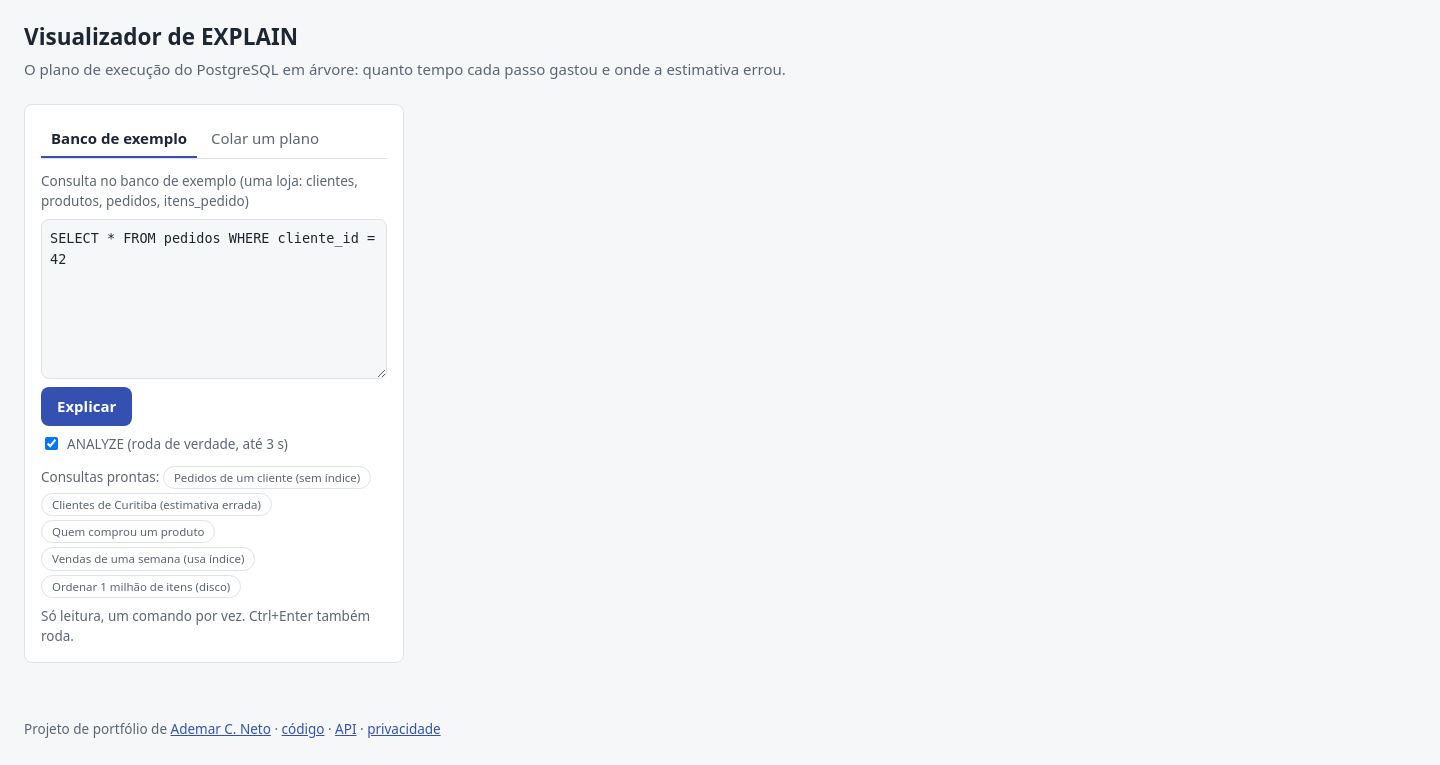
Scenario: fluxo do banco de exemplo com índice hipotético › roda, compara, abre o plano com o índice (sem alertas) e volta ao plano real
Submit the form with class "banco", box 41,171 -> 387,646
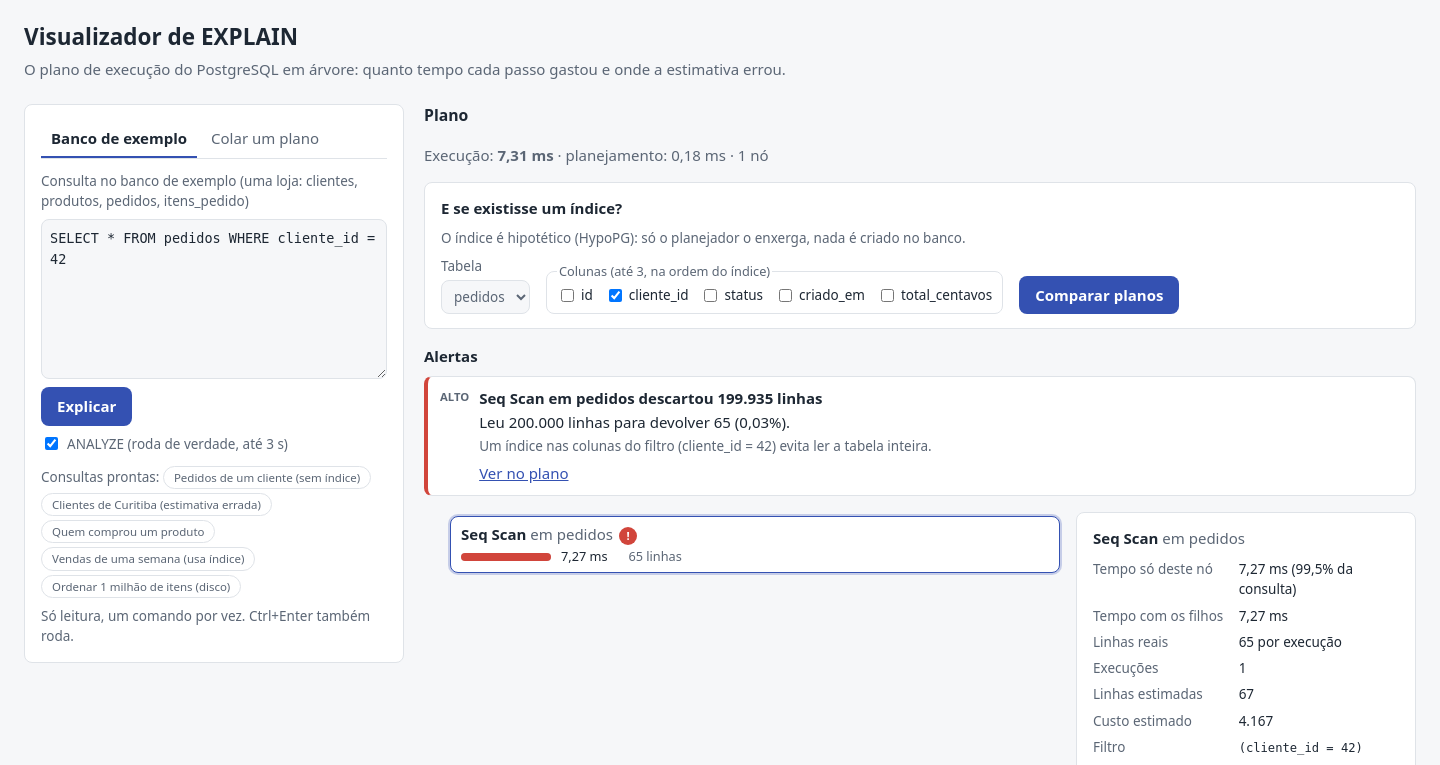
expect the element with class "alertas" shows "Seq Scan em pedidos": met, box 479,388 -> 822,408
Submit the form that starts with "Tabela", box 441,257 -> 1179,314
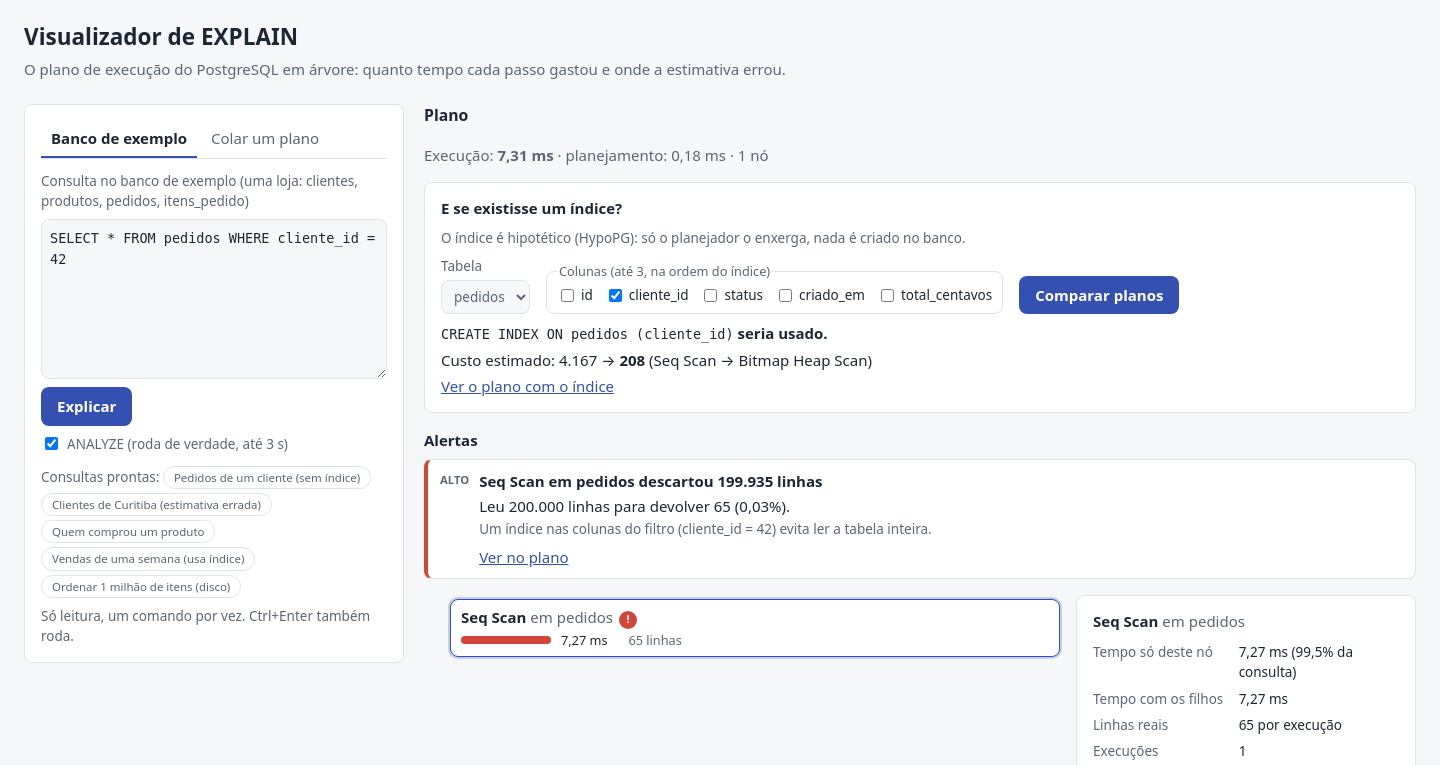
Click the button "Ver o plano com o índice" at coordinates (528, 387), box 441,375 -> 614,398
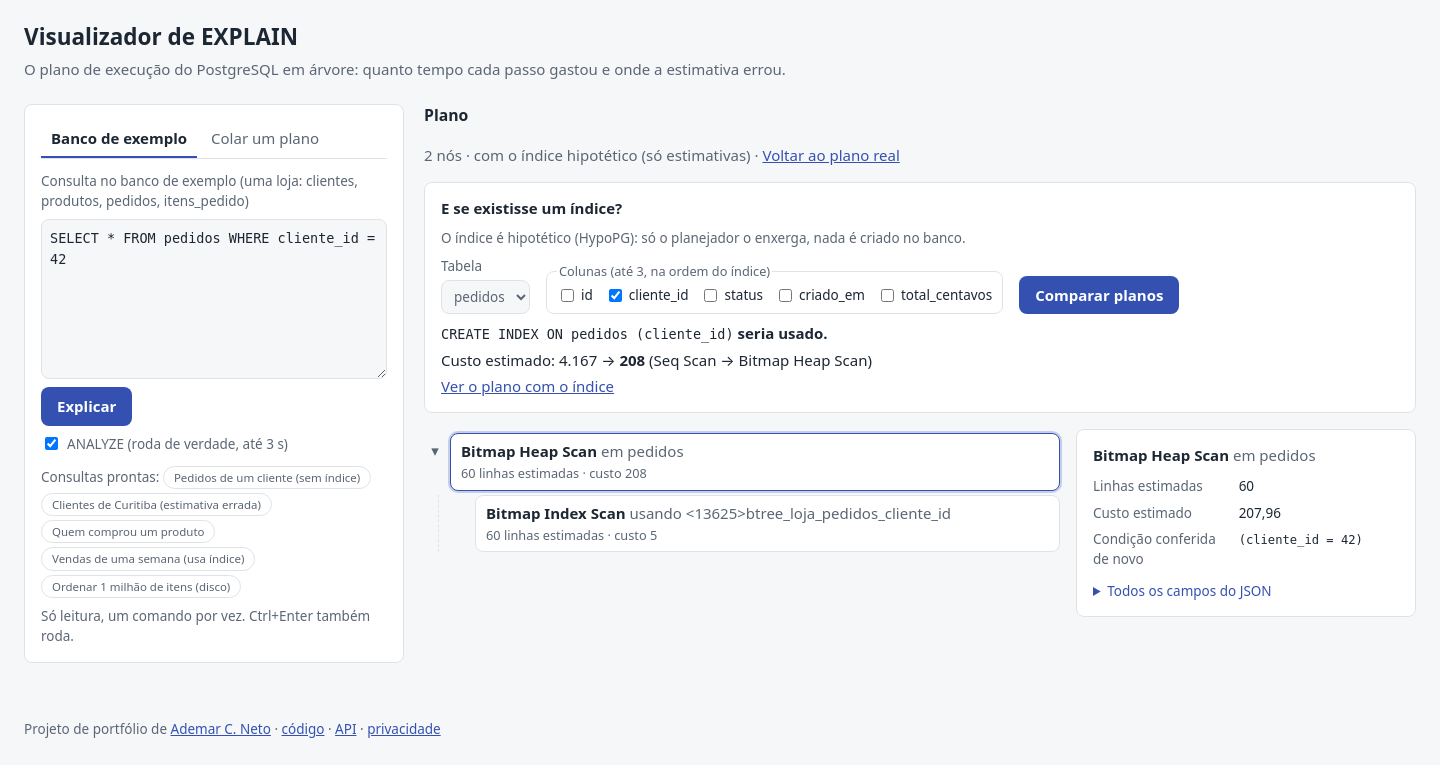
expect the element with class "resumo" shows "com o índice hipotético": met, box 466,145 -> 762,165
Click the button "Voltar ao plano real" at coordinates (831, 155), box 762,144 -> 900,166
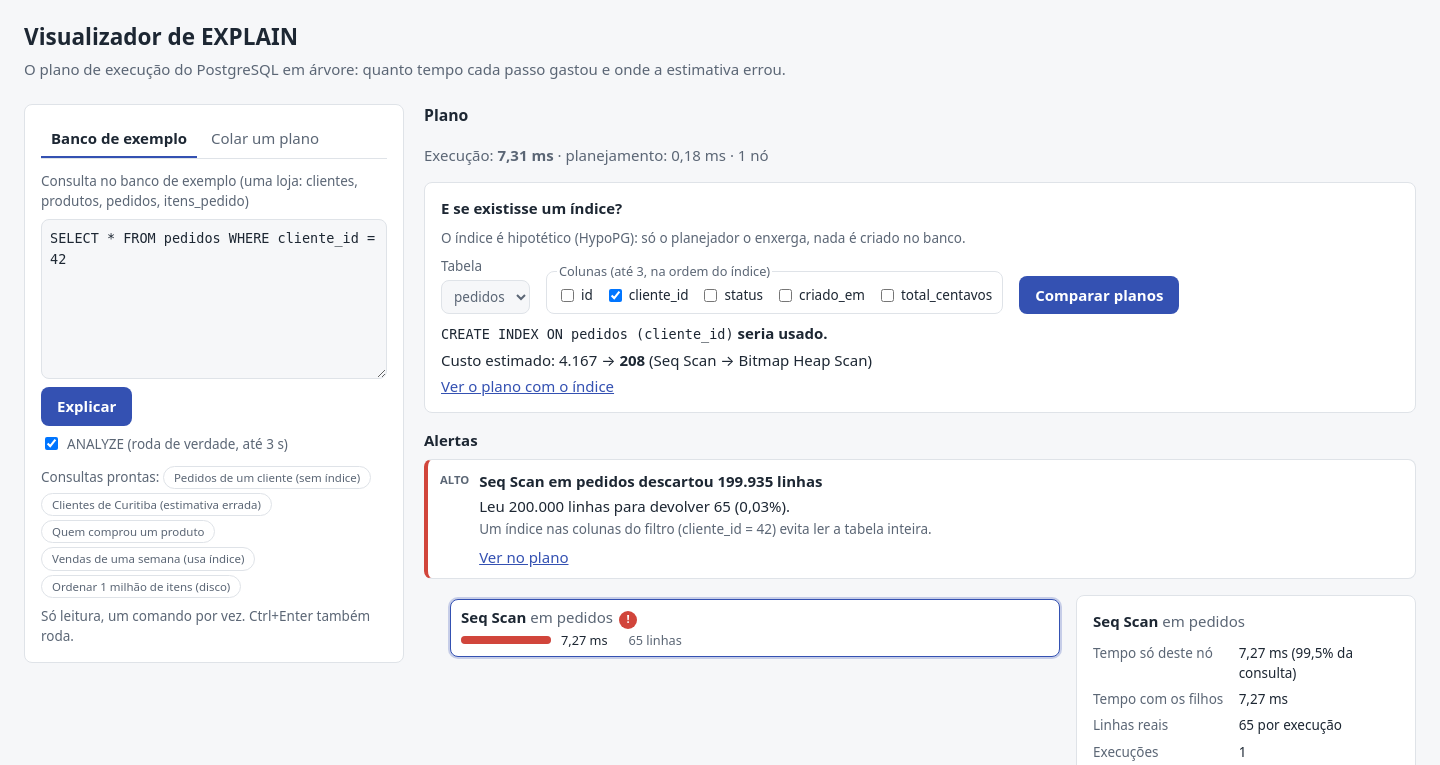
expect the element with class "resumo" shows "Execução": met, box 424,145 -> 498,165
expect the element with class "alertas" is shown: met, box 424,429 -> 1416,579
